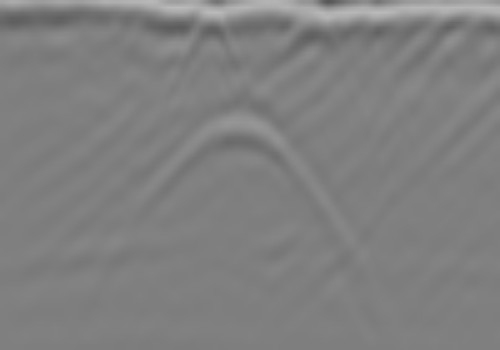hyperbola: (102, 104, 357, 276), (163, 9, 250, 101)
